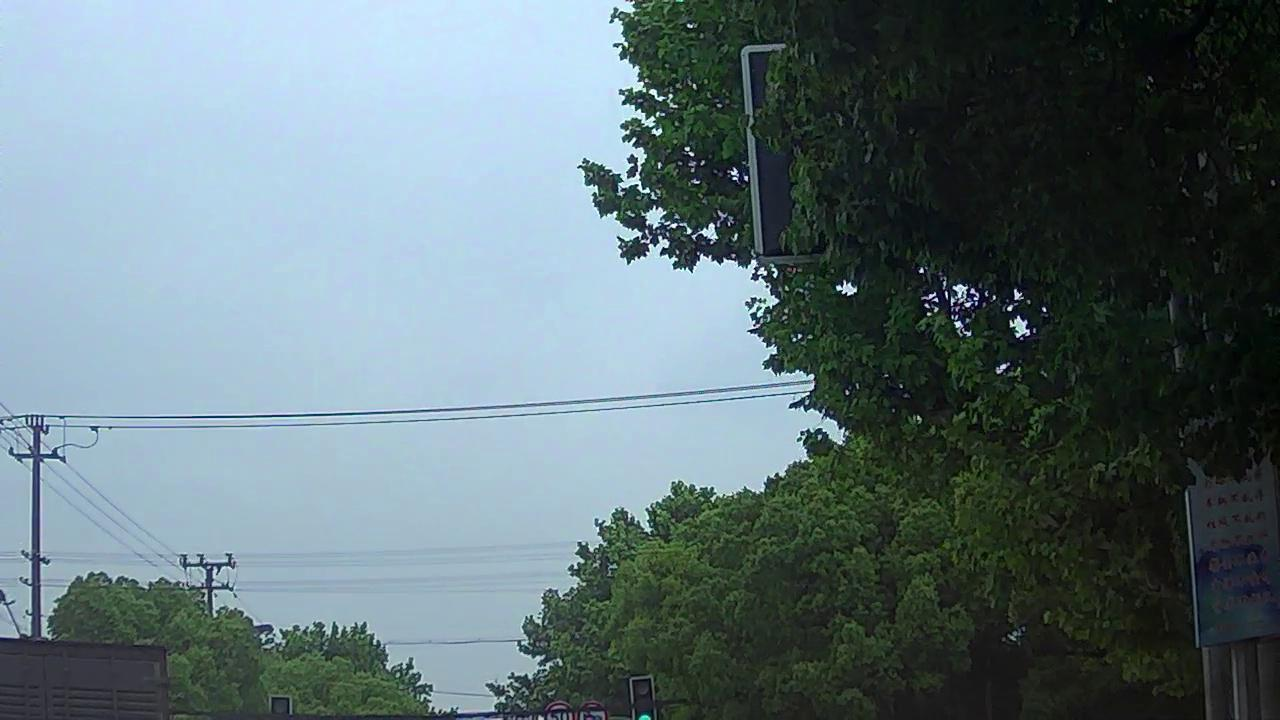traffic_light: (630, 680, 654, 720)
